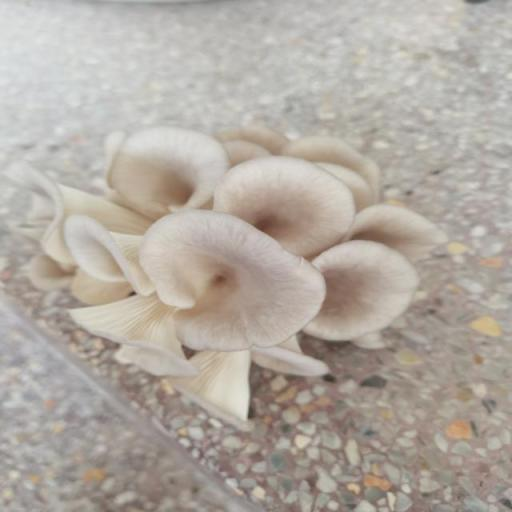White Oyster Mushroom: (23, 102, 464, 431)
